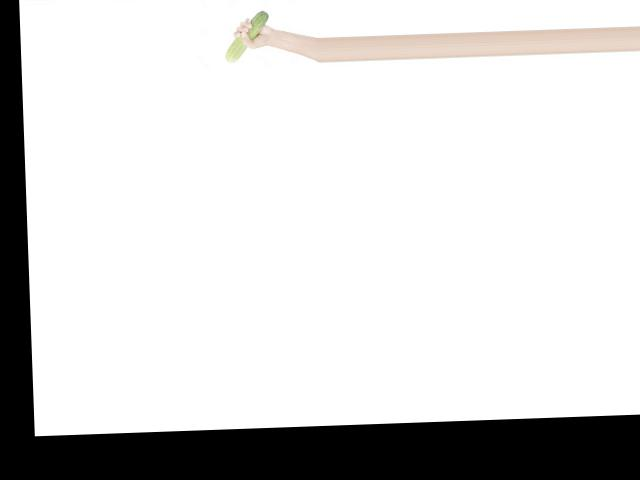cucumber: (224, 10, 271, 62)
